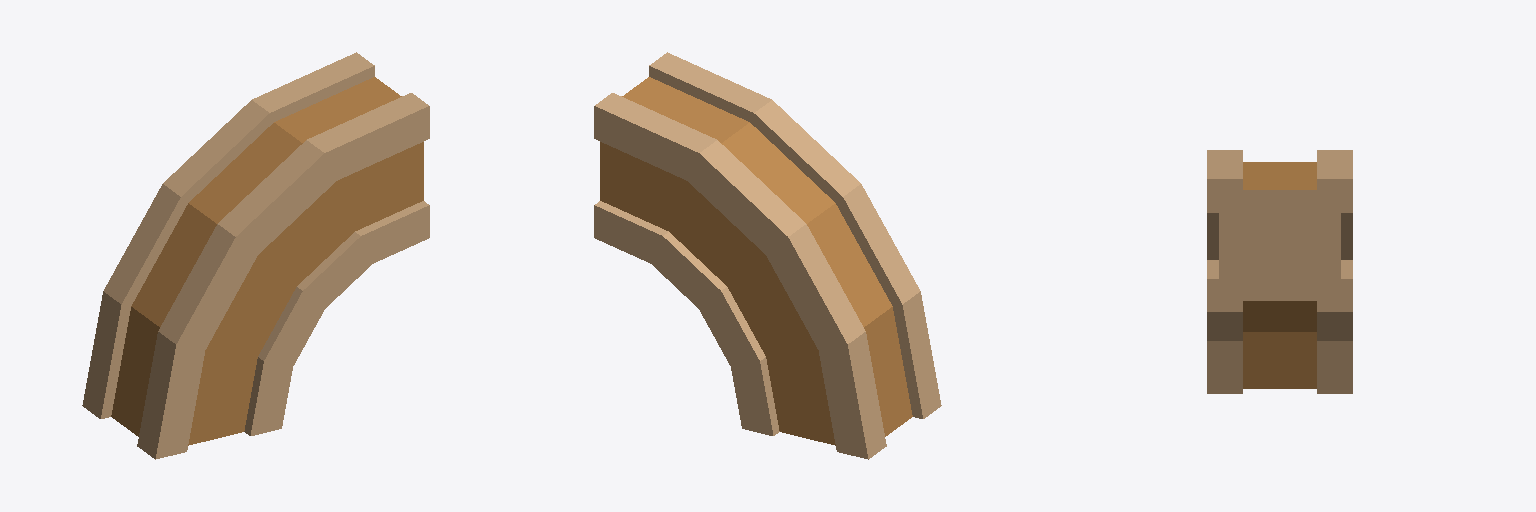
The model's file is Pillar_Large_Arch.obj.
3 views of the same model, side by side, from view 1: azimuth 30°, elevation 25°; view 2: azimuth 150°, elevation 25°; view 3: azimuth 270°, elevation 25° (orthographic).
Visible parts, largest first — view 1: object1; view 2: object1; view 3: object1.
Boxes of the visible parts, <box> form: object1: <box>82,52,429,459</box>; object1: <box>594,52,941,459</box>; object1: <box>1207,150,1352,393</box>.
Bounding box in the file's own units: 1.3 × 1.3 × 0.6.